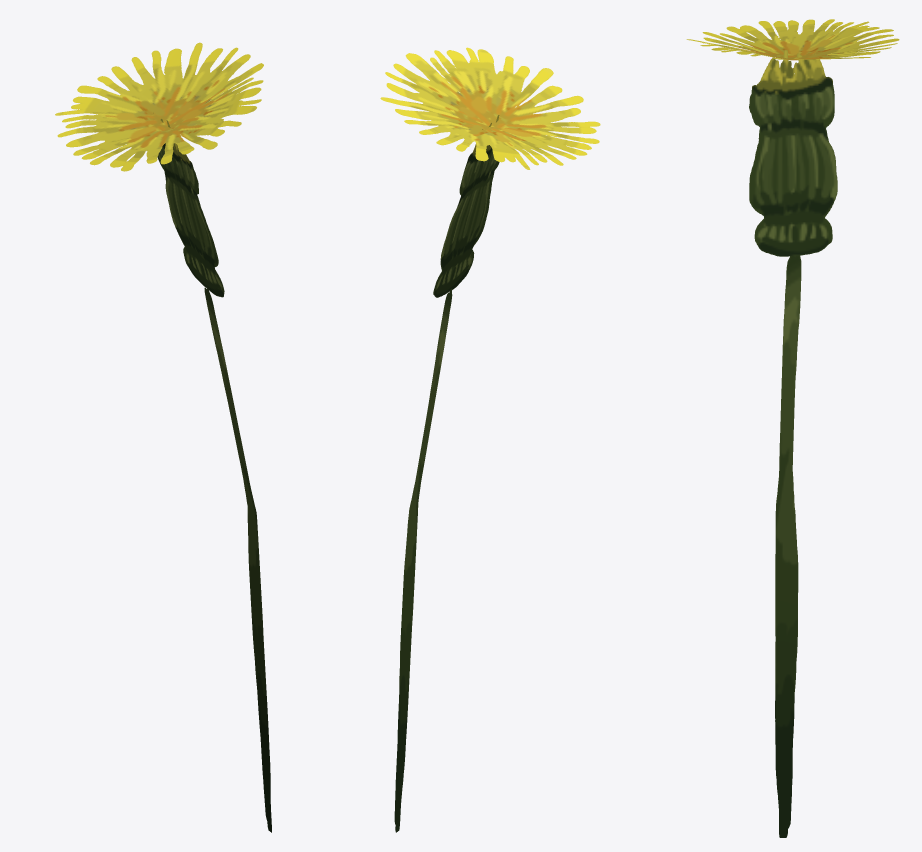
File: Dandelion1_Mesh.fbx
3 views of the same model, side by side, from view 1: azimuth 30°, elevation 25°; view 2: azimuth 150°, elevation 25°; view 3: azimuth 270°, elevation 25° (orthographic).
Parts seen in each view (by area): view 1: Plane.027; view 2: Plane.027; view 3: Plane.027.
Boxes of the visible parts, x1,y1,x2,y2 form: Plane.027: [55, 42, 271, 832]; Plane.027: [380, 47, 600, 832]; Plane.027: [686, 19, 899, 837].
Bounding box in the file's own units: 9.82 × 35.96 × 9.6.
